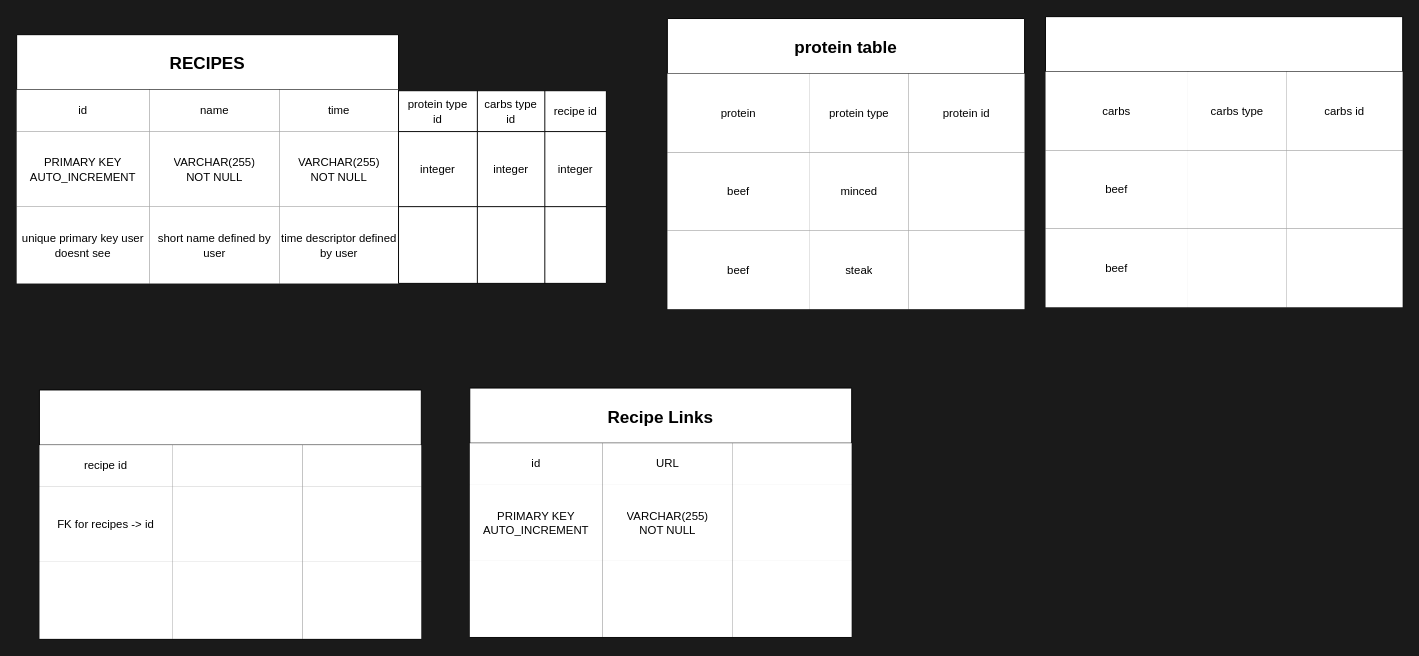
The diagram is 1419 pixels wide and 656 high, and some of its shapes have lost their labels. The box of each missing label's shape, as (x1, y1, x2, y2) in pixels:
carbs table: (1045, 16, 1403, 307)
last three meals: (38, 389, 421, 639)
